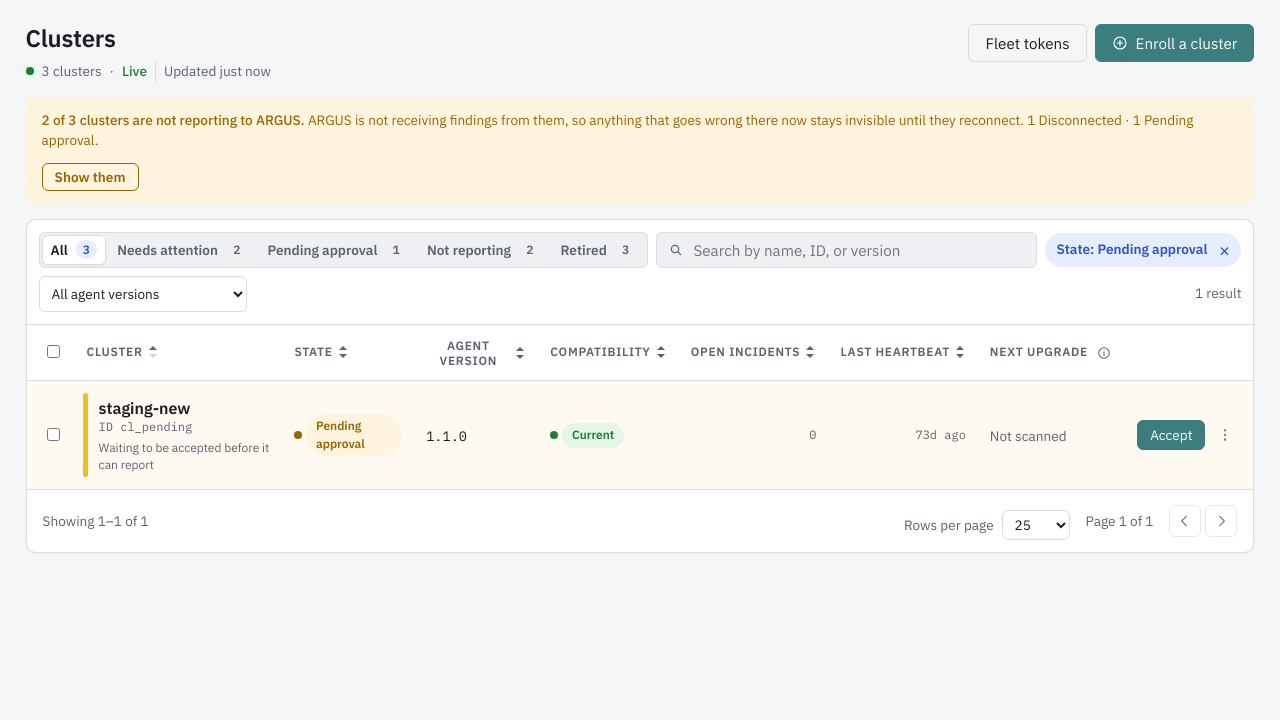
it: ClustersPage — search, state, version filters and quick views › honours a ?state= link with a visible, removable chip instead of a state dropdown
Check: the link "staging-new" is shown, box [99,397,190,419]
Check: the text "prod-eu" is not shown
Click the button named "Clear the state filter" at (1224, 250), box [1211,237,1237,263]
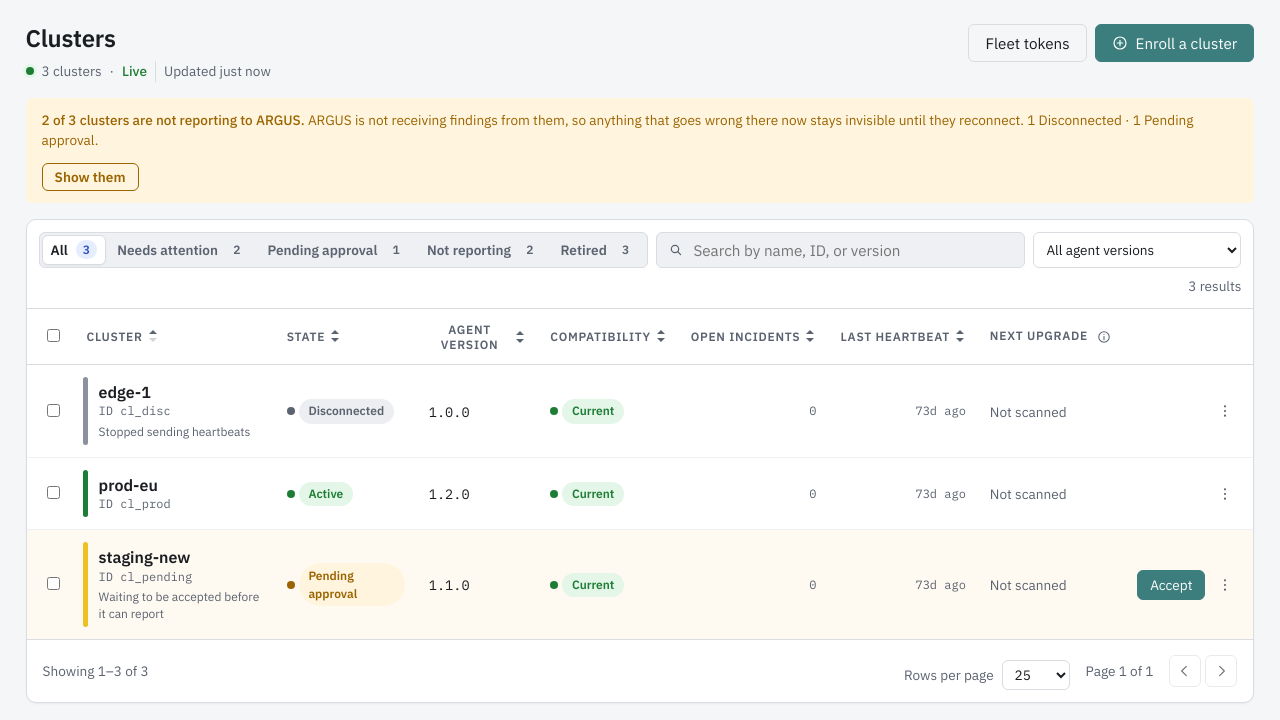
Check: the link "prod-eu" is shown, box [99,474,158,496]
Check: the text "State: Pending approval" is gone
